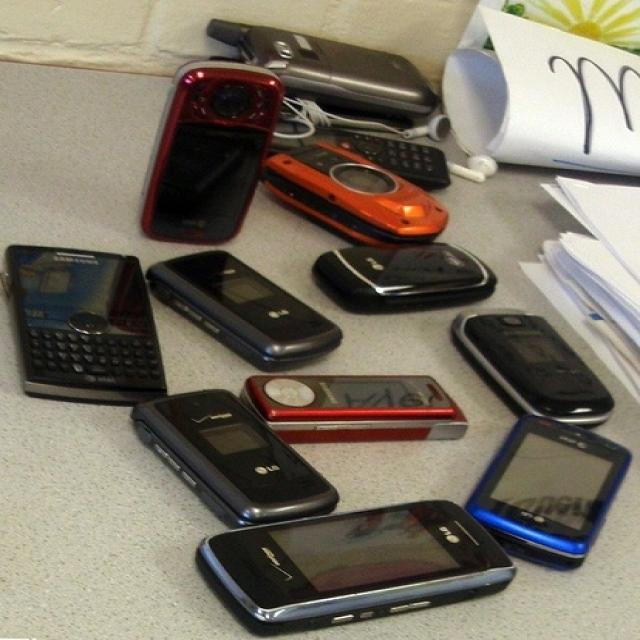E-waste: (126, 368, 640, 629), (153, 14, 506, 326), (0, 233, 181, 403)
